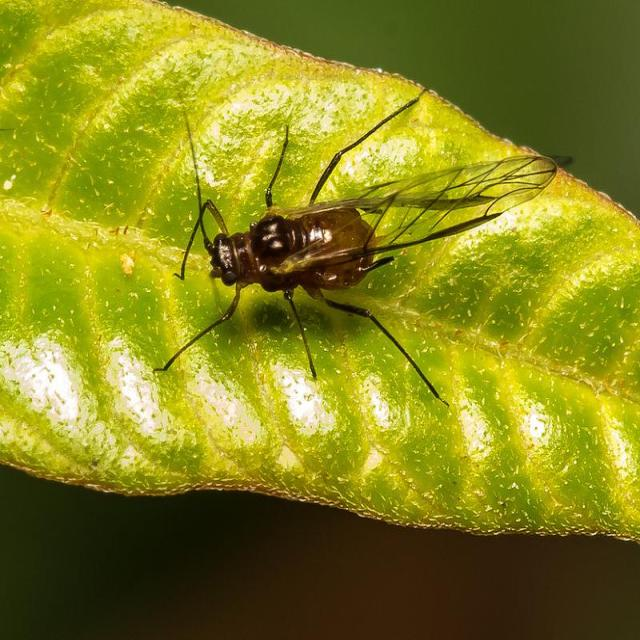Aphids: (164, 101, 518, 390)
